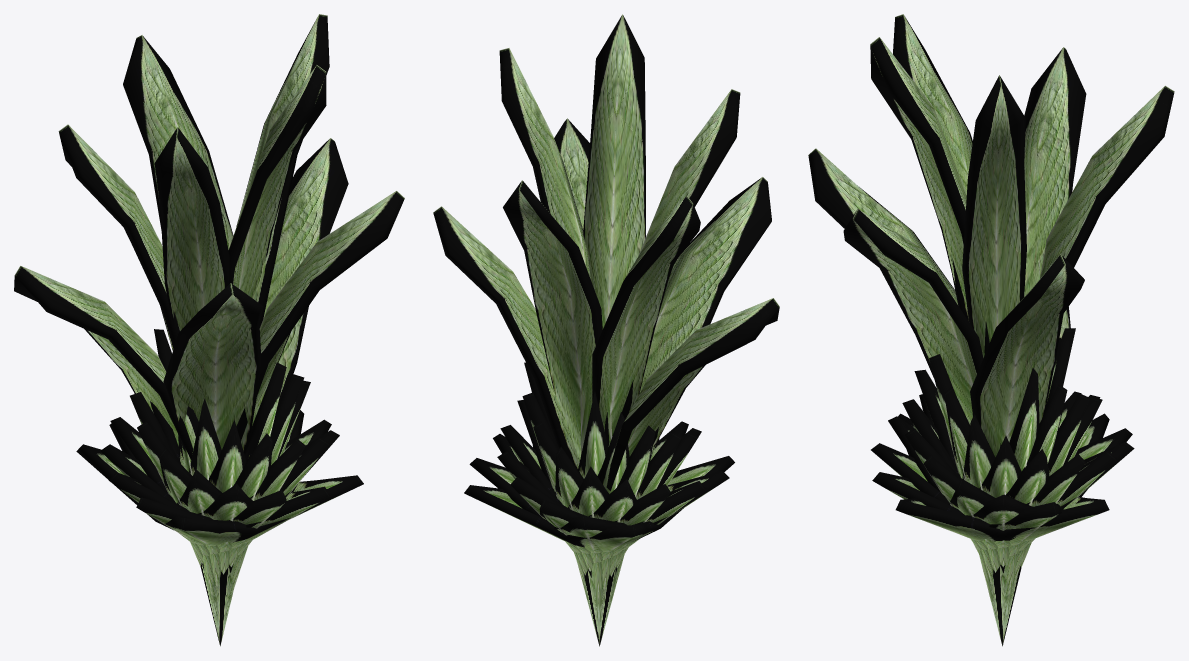
File: p3_small.dae
The picture shows the model from 3 angles, left to right: view 1: azimuth 30°, elevation 25°; view 2: azimuth 150°, elevation 25°; view 3: azimuth 270°, elevation 25°; orthographic projection. The views are drawn at different scales.
Parts seen in each view (by area): view 1: Low-Poly_Plant__001; view 2: Low-Poly_Plant__001; view 3: Low-Poly_Plant__001.
Part boxes in pixels (<box>): Low-Poly_Plant__001: <box>14,14,404,646</box>; Low-Poly_Plant__001: <box>433,14,779,646</box>; Low-Poly_Plant__001: <box>808,14,1174,646</box>.
Size of the model in its own units: 0.588 by 0.5336 by 1.01.
1 material, 1 textured.
